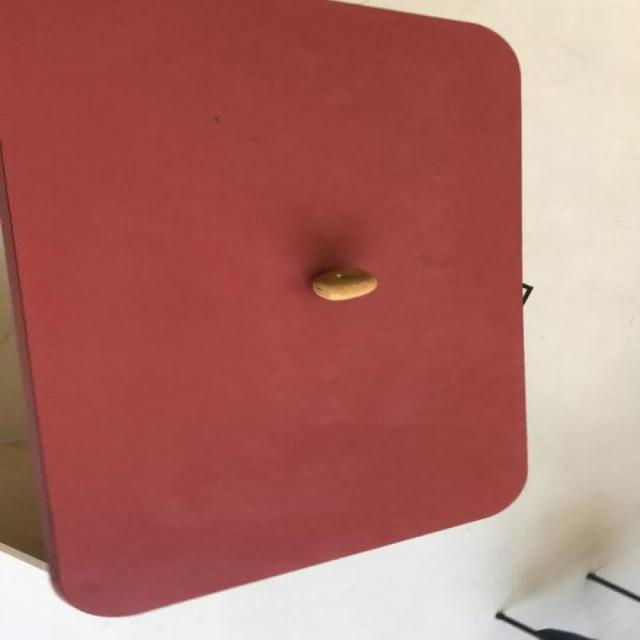Kiwi: (310, 268, 376, 301)
